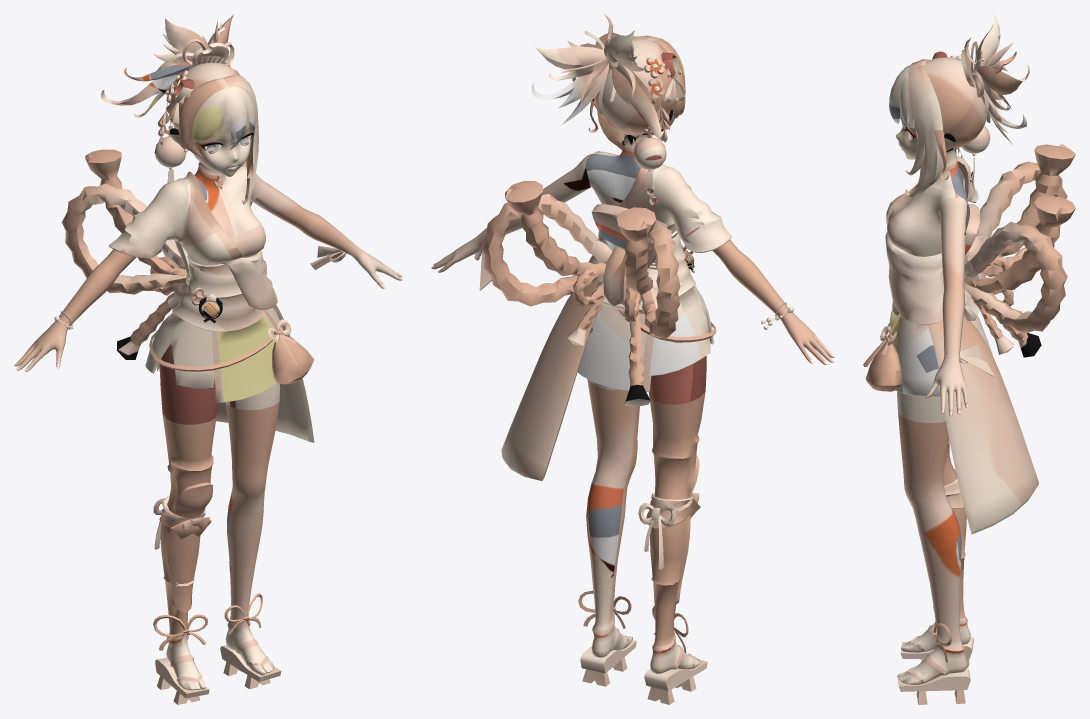
3 renders of one model, left to right at view 1: azimuth 30°, elevation 25°; view 2: azimuth 150°, elevation 25°; view 3: azimuth 270°, elevation 25°, orthographic. The views are drawn at different scales.
Visible parts, largest first — view 1: 宵宫_mesh_宵宫; view 2: 宵宫_mesh_宵宫; view 3: 宵宫_mesh_宵宫.
Boxes of the visible parts, <box> form: 宵宫_mesh_宵宫: <box>14,14,402,704</box>; 宵宫_mesh_宵宫: <box>431,14,834,704</box>; 宵宫_mesh_宵宫: <box>863,15,1075,704</box>.
Size of the model in its own units: 128 by 207 by 60.43.
Materials: 27 (27 with a texture image).
